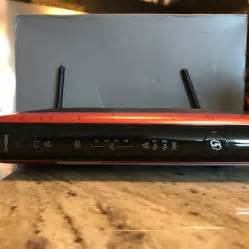Verizon Router: (1, 93, 248, 182)
